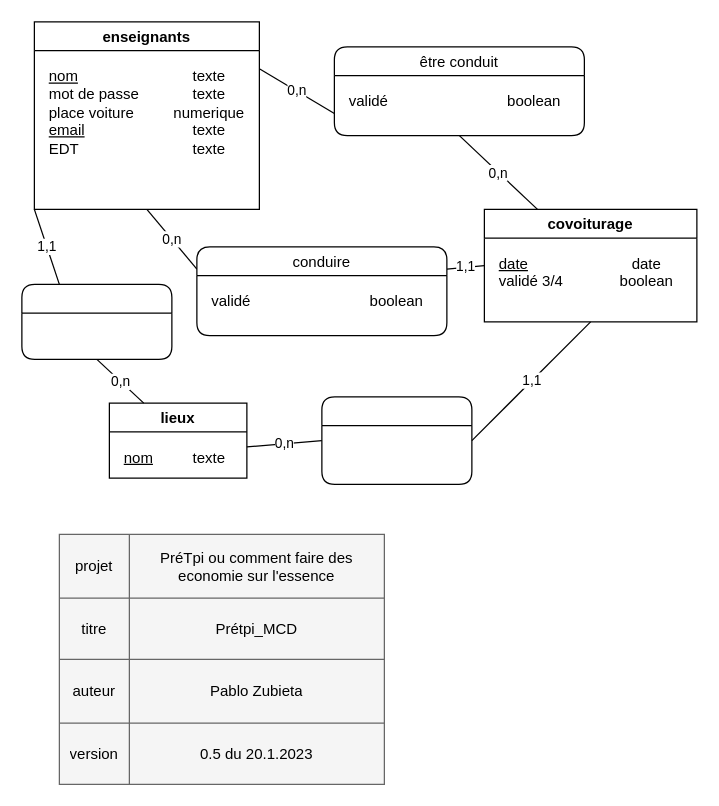
Some shapes in this 719 by 806 pixel diagram are drawn without their labels. The centre of each missing label's shape, as x and y in pixels:
habiter: the point at 96,321
partir: the point at 396,440
